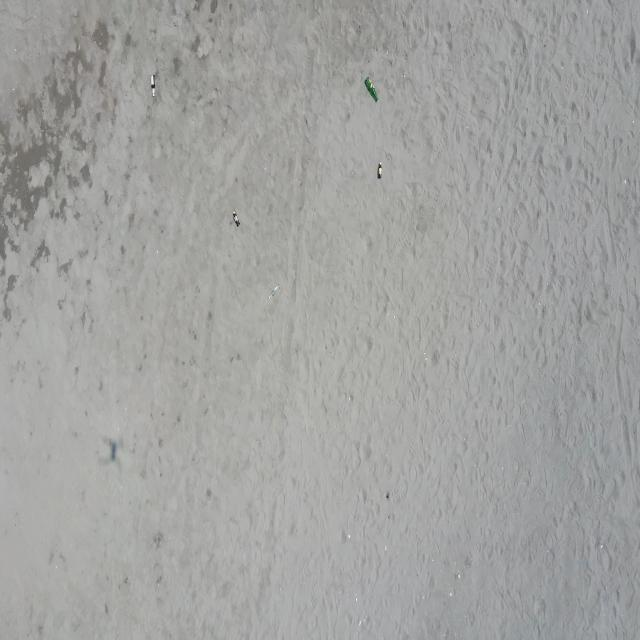glass: (364, 76, 379, 102), (268, 284, 281, 300), (232, 211, 240, 228), (151, 74, 156, 98), (377, 162, 383, 180)
